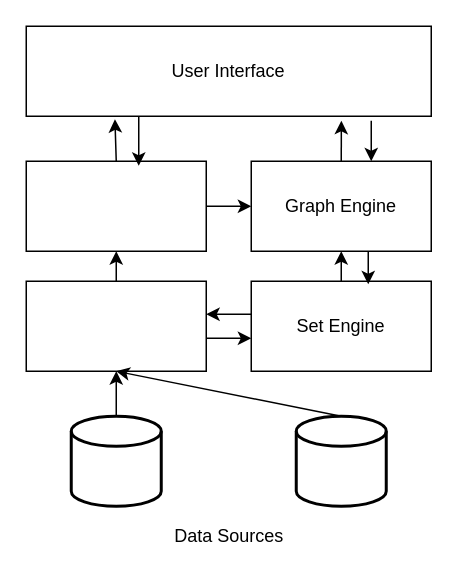
This 458x578 diagram has some shape labels left out. The centre of each missing label's shape, as x and y in pixels:
"Graph Definition Library" goes at [115,205].
"Set Definition Library" goes at [115,325].
